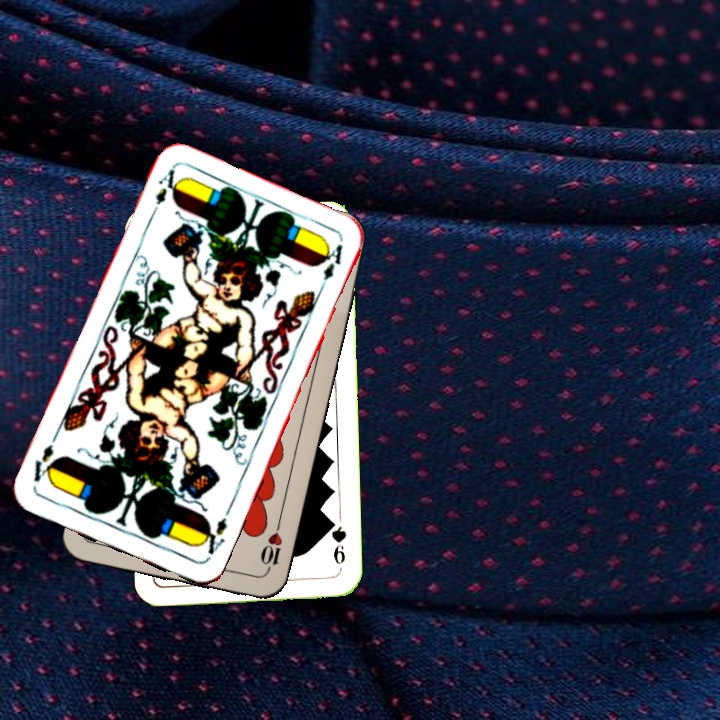EA: (146, 165, 182, 221), (196, 513, 230, 563)
G9: (326, 516, 349, 567)
H10: (256, 518, 285, 577)
